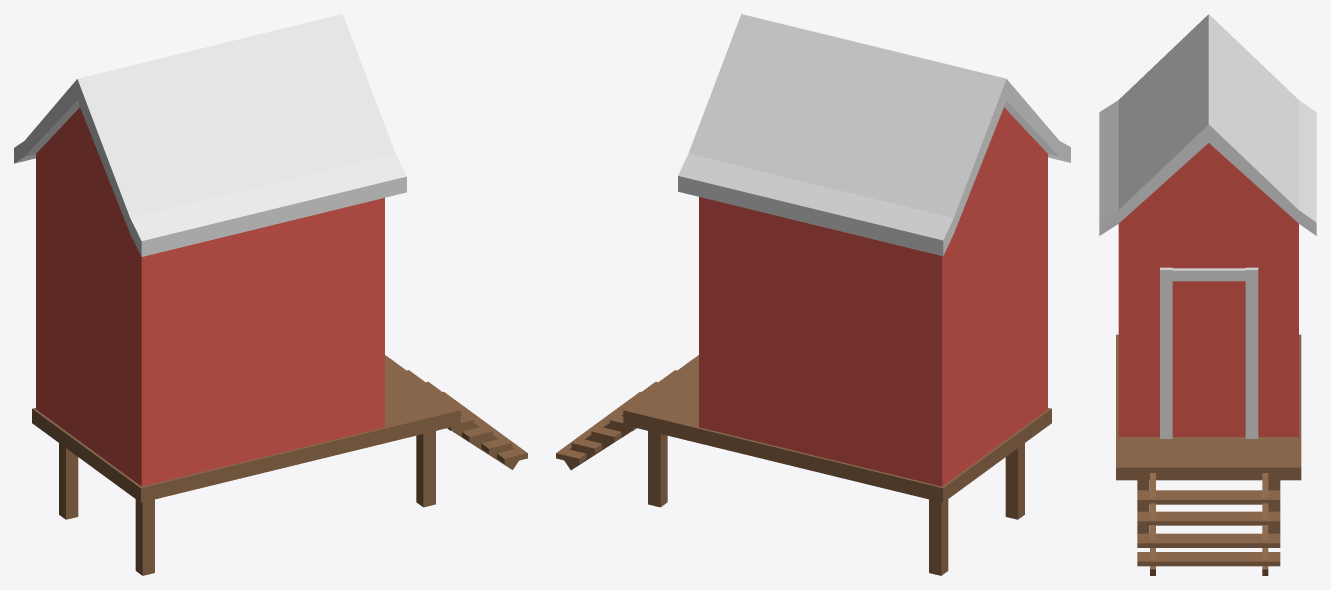
File: galinheiro.fbx
3 views of the same model, side by side, from view 1: azimuth 30°, elevation 25°; view 2: azimuth 150°, elevation 25°; view 3: azimuth 270°, elevation 25° (orthographic). The views are drawn at different scales.
Visible parts, largest first — view 1: galinheiro; view 2: galinheiro; view 3: galinheiro.
Part boxes in pixels (box(x1,y1,x2,y2)): galinheiro: box(14, 14, 527, 575); galinheiro: box(556, 14, 1070, 575); galinheiro: box(1099, 14, 1316, 575).
Bounding box in the file's own units: 266 × 292 × 143.
